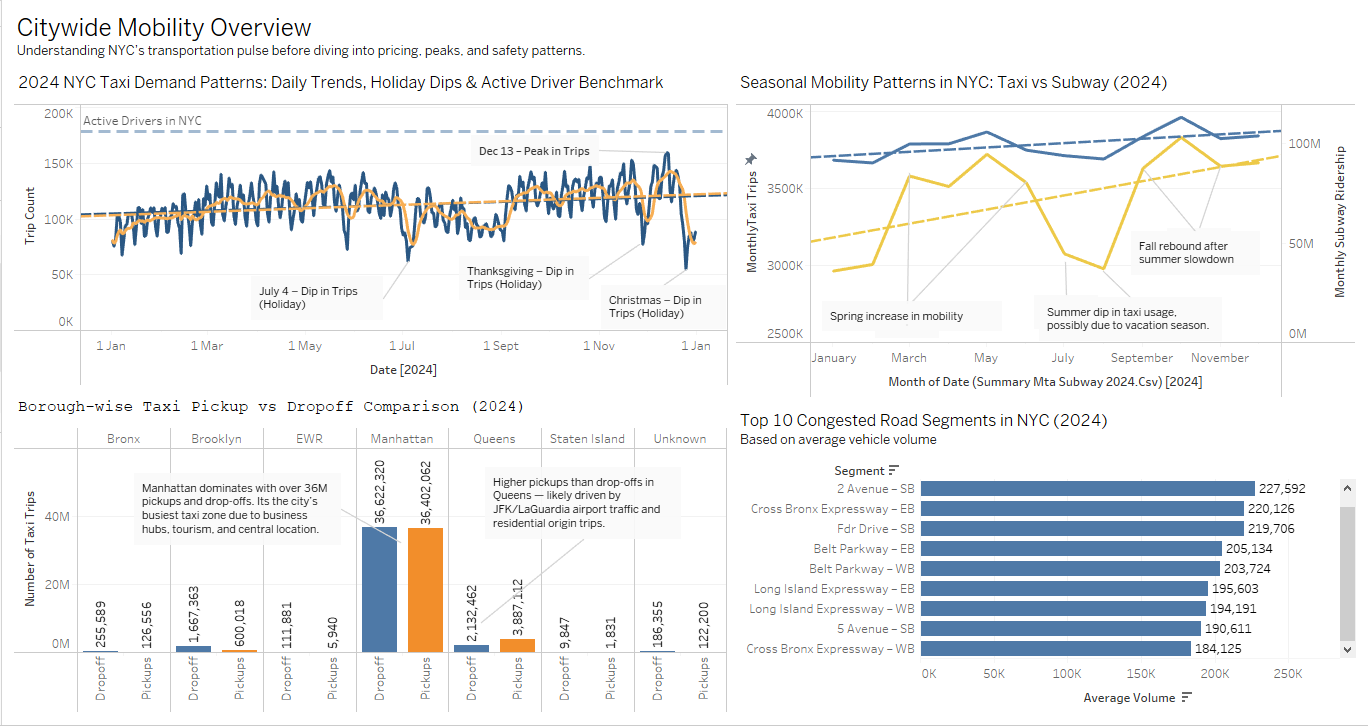

What the dashboard file says about the page in this screenshot:
{"tool":"tableau","page":{"name":"Dashboard 1: Citywide Mobility Overview","canvas":[1366,725],"ordinal":0},"visuals":[{"type":"title","box":[8,8,1350,56]},{"type":"worksheet","title":"Daily Taxi Trips with Trends ","mark":"Automatic","rows":["trip_count","Calculation_671317886551502848"],"cols":["date"],"box":[8,64,721.7,326.5]},{"type":"worksheet","title":"Monthly Taxi vs Subway Ridership","mark":"Automatic","rows":["trip_count","subway_ridership"],"cols":["date (summary_mta_subway_2024.csv)"],"box":[729.7,64,628.3,337.8]},{"type":"worksheet","title":"Dropoffs Vs Pickups","mark":"Bar","cols":["dropoff_borough"],"box":[8,390.5,721.7,326.5]},{"type":"worksheet","title":"Congested Road Segments NYC","mark":"Automatic","rows":["Calculation_915075217121320962"],"cols":["average_volume"],"box":[729.7,401.8,628.3,315.2]}]}

Visuals, with their boxes in screenshot pixels (x1, y1, x2, y2), scaled from the page's 1366x725 canvas onto the 1368x726 screenshot:
title: l=8, t=8, r=1360, b=64
"Daily Taxi Trips with Trends " worksheet: l=8, t=64, r=731, b=391
"Monthly Taxi vs Subway Ridership" worksheet: l=731, t=64, r=1360, b=402
"Dropoffs Vs Pickups" worksheet (Bar marks): l=8, t=391, r=731, b=718
"Congested Road Segments NYC" worksheet: l=731, t=402, r=1360, b=718
